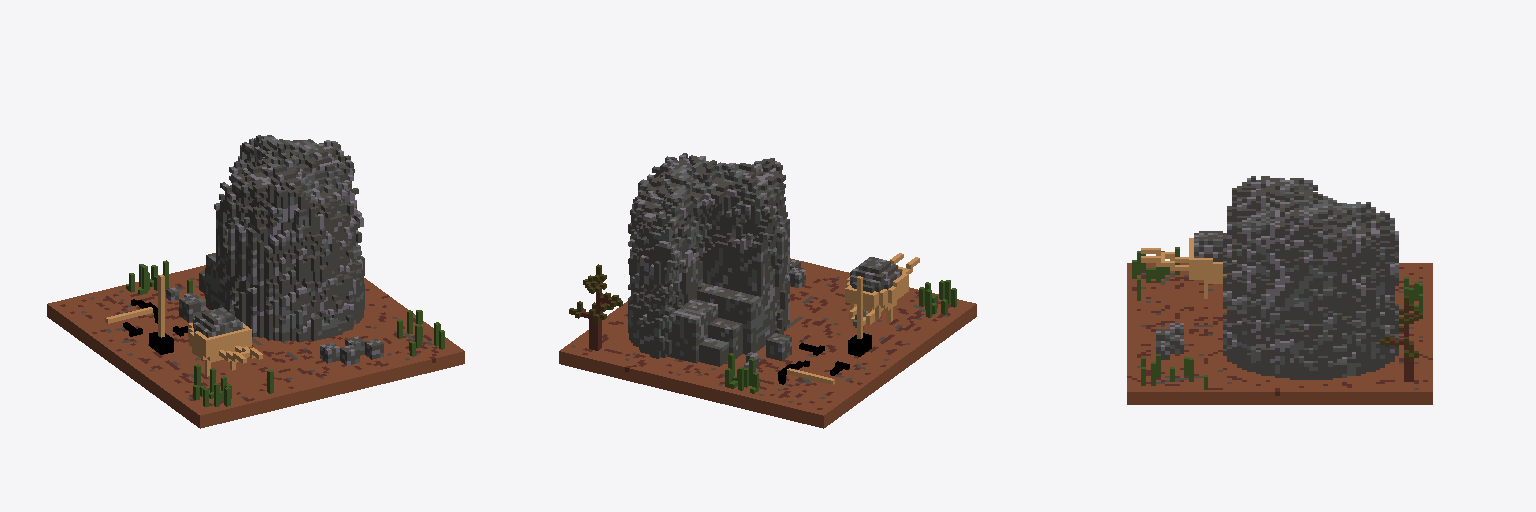
3 views of the same model, side by side, from view 1: azimuth 30°, elevation 25°; view 2: azimuth 150°, elevation 25°; view 3: azimuth 270°, elevation 25° (orthographic).
Parts seen in each view (by area): view 1: object 1; view 2: object 1; view 3: object 1.
Boxes of the visible parts, x1,y1,x2,y2 form: object 1: [47, 135, 464, 428]; object 1: [559, 153, 976, 428]; object 1: [1127, 176, 1432, 404].
Size of the model in its own units: 6.4 by 3.9 by 6.4.
Materials: 1 (1 with a texture image).